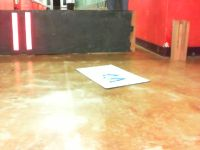switch: (24, 12, 32, 50), (12, 13, 19, 51)
